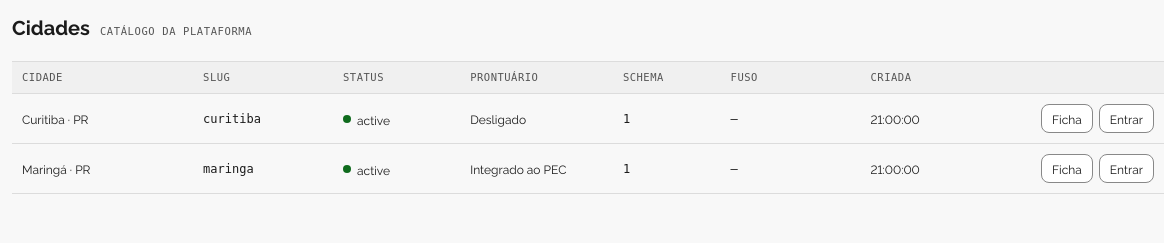
City record (read-only switches) › shows the error state when the record fails to load
Click the button with aria-label "Ficha de Curitiba". click: (1067, 119)
box: x1=1041 y1=104 x2=1093 y2=133
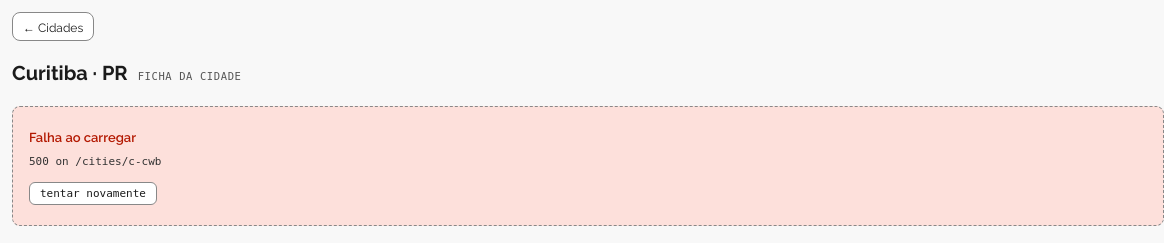
Result: the text "Falha ao carregar" is shown at x1=29 y1=127 x2=136 y2=146
Result: the table is gone
Result: the text "500 on /cities/c-cwb" is shown at x1=29 y1=154 x2=162 y2=170
